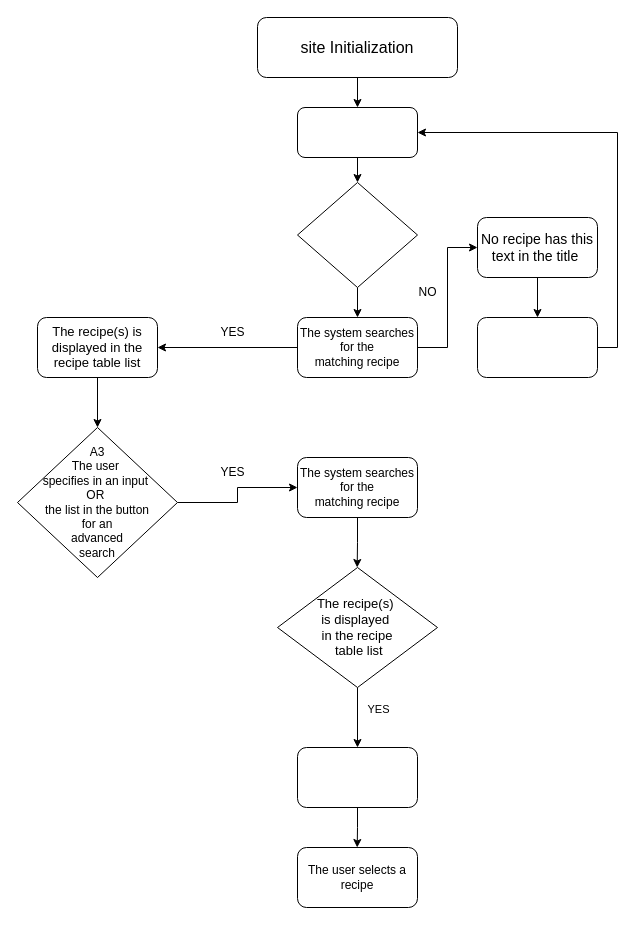
This 643x925 diagram has some shape labels left out. Each missing label, with the centre of its shape:
A1 Write at least 3 characters: [357,235]
Displaying recipes with advanced search with the tag: [357,777]
Error message is displayed "XXX": [537,347]
Nominal Scenario The user selects the search bar: [357,132]
